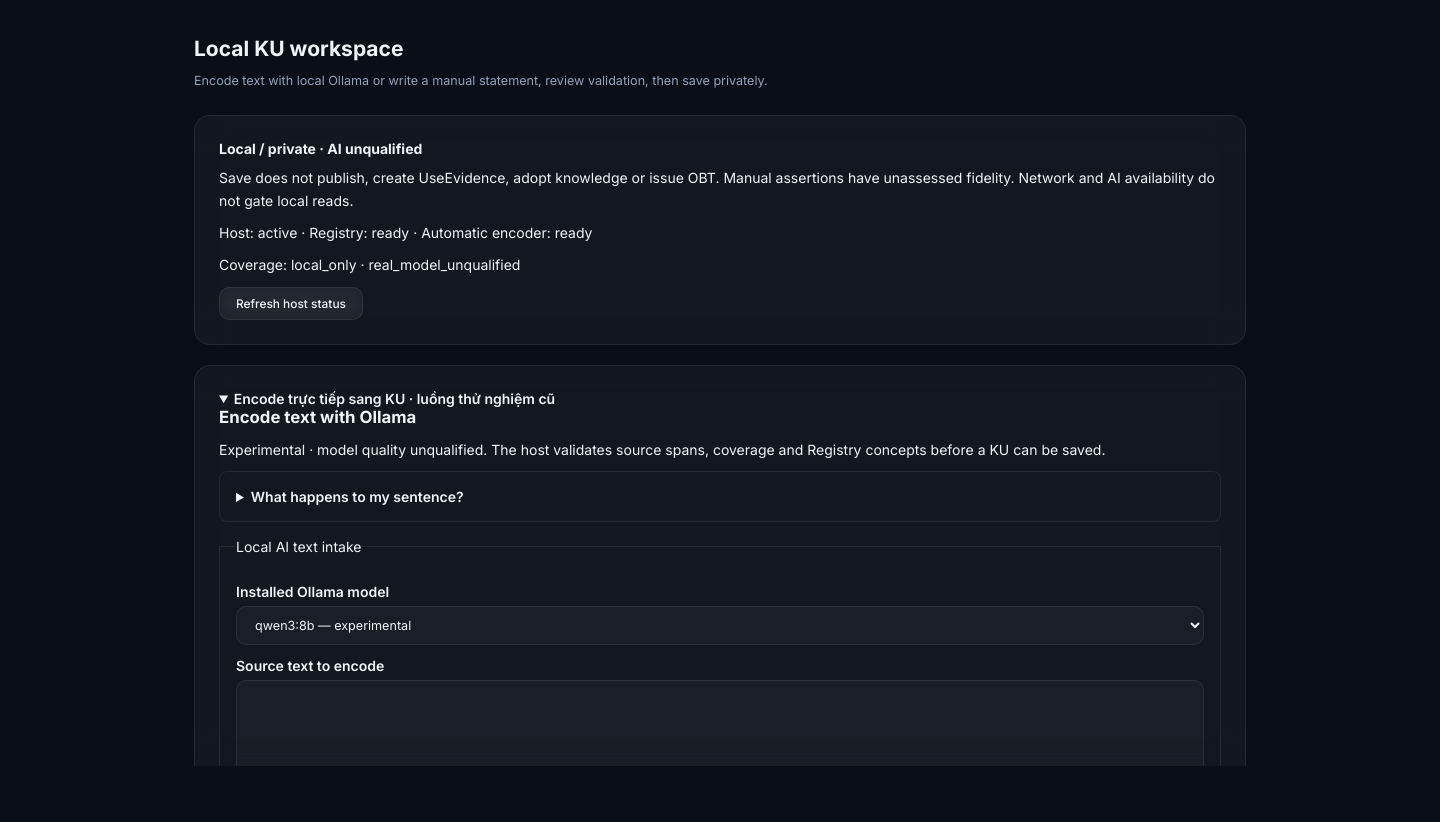
Test: local KU component journey › shows field-level schema diagnostics without opening technical details
The width and height of the screenshot is (1440, 822).
Type "Water boils." into the text box labelled "Source text to encode" at (720, 736), box [236,680,1204,792]
(page scrolled)
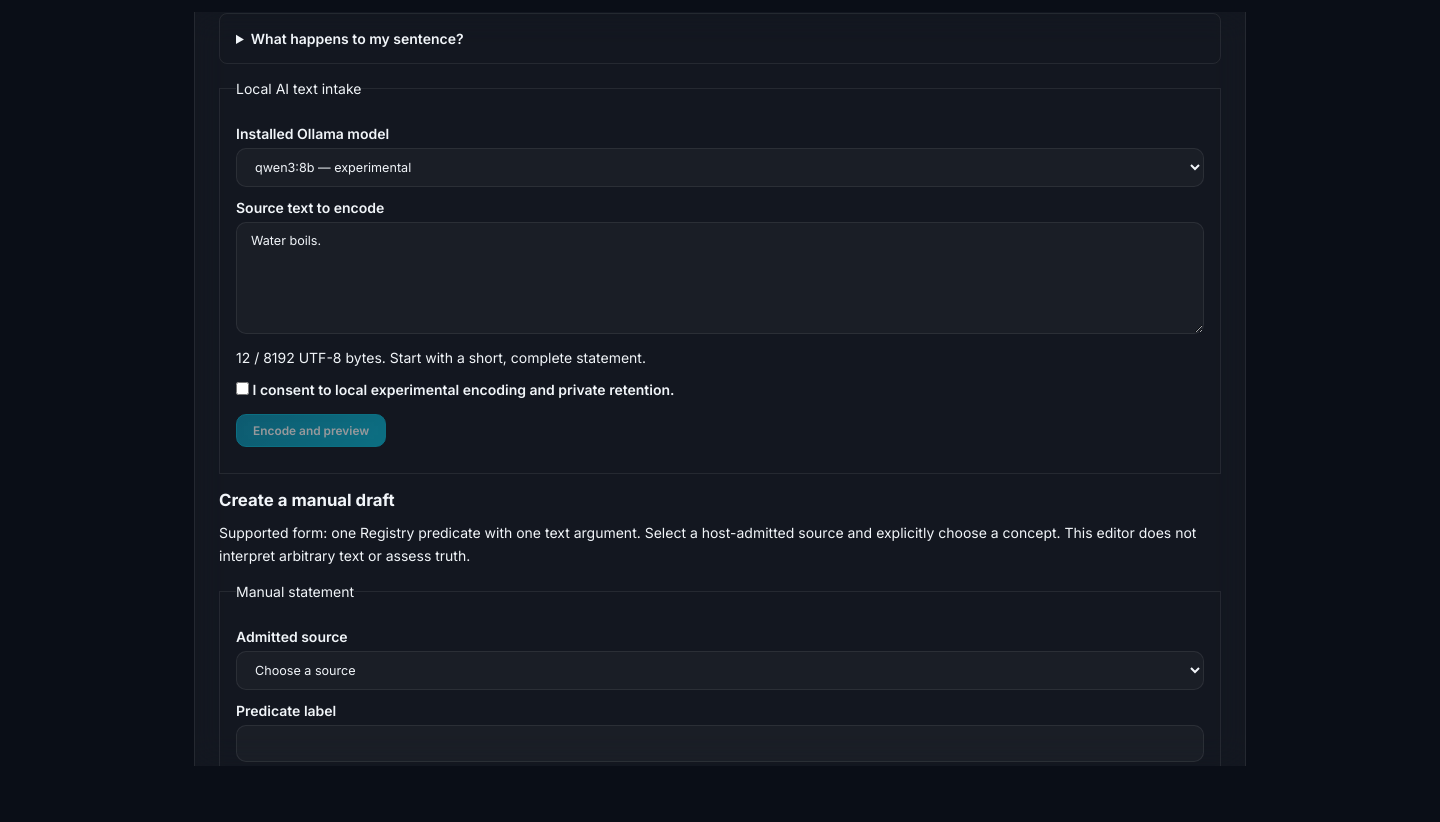
Click the checkbox at (242, 389), box [236,382,249,396]
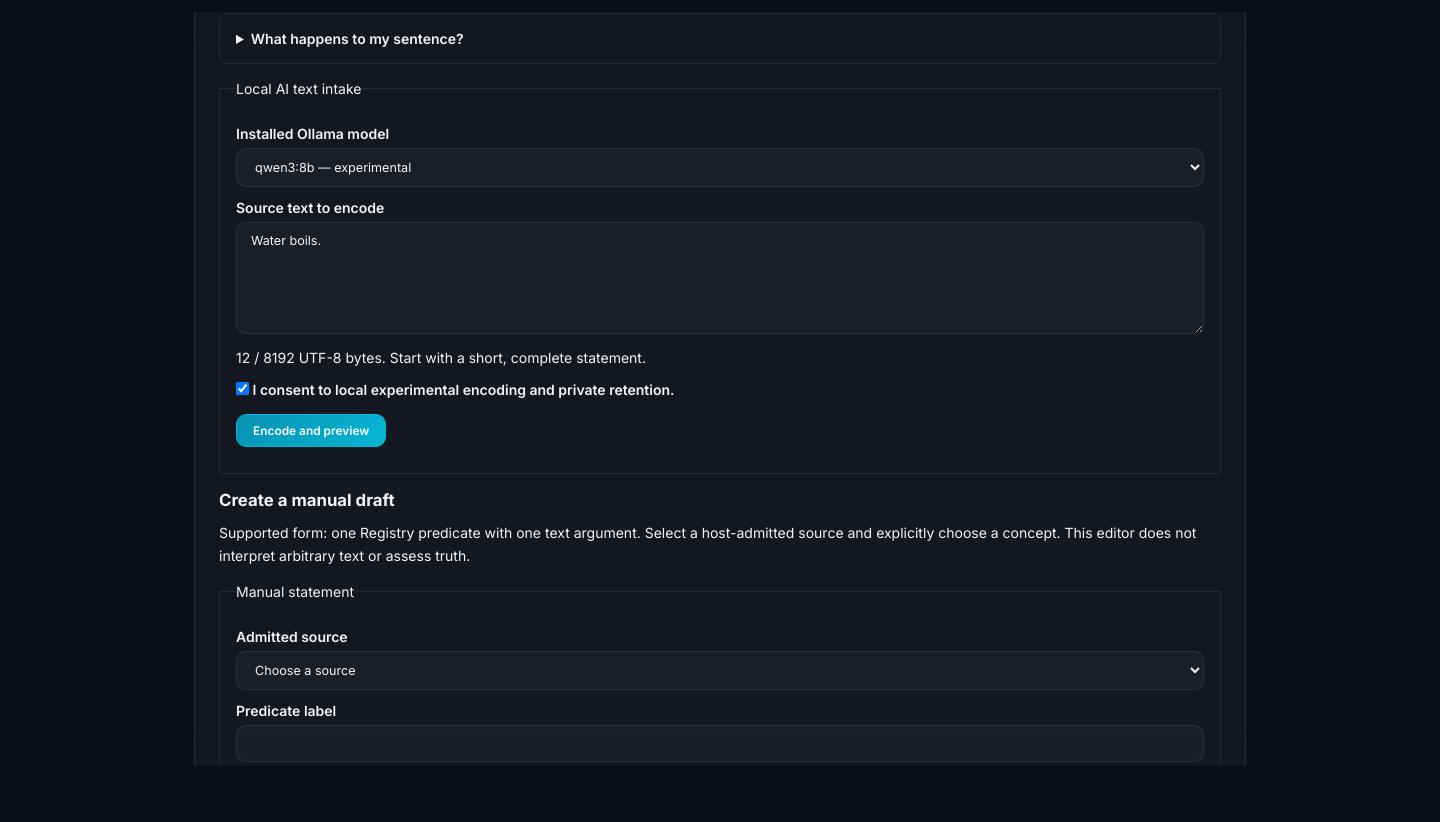
Click the button "Encode and preview" at (311, 431), box [236,414,386,448]
(page scrolled)
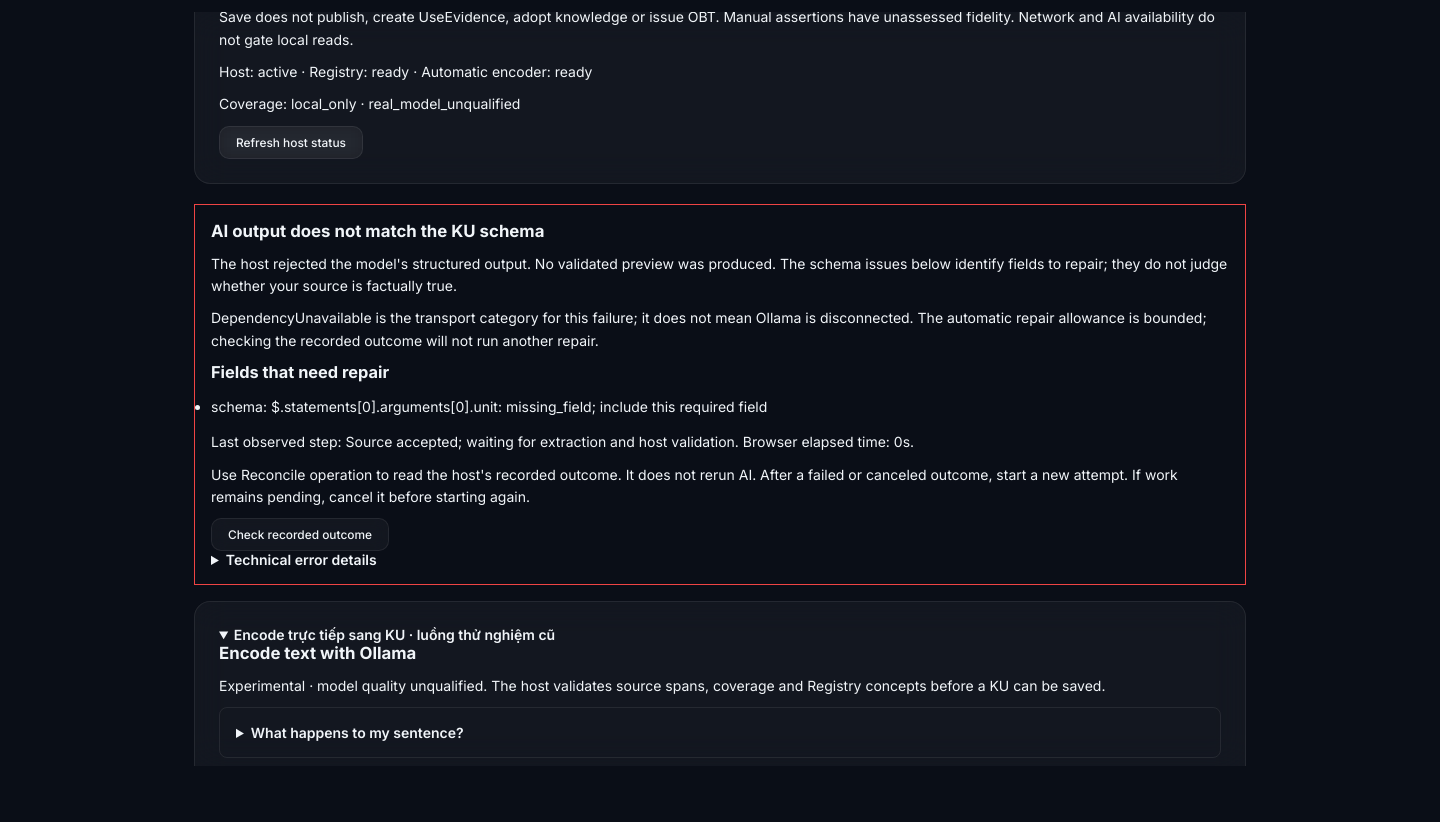
Result: the heading "AI output does not match the KU schema" is shown at [211,221,544,241]
Result: the element named "Schema validation issues" shows "$.statements[0].arguments[0].unit: missing_field" at [211,398,767,415]
